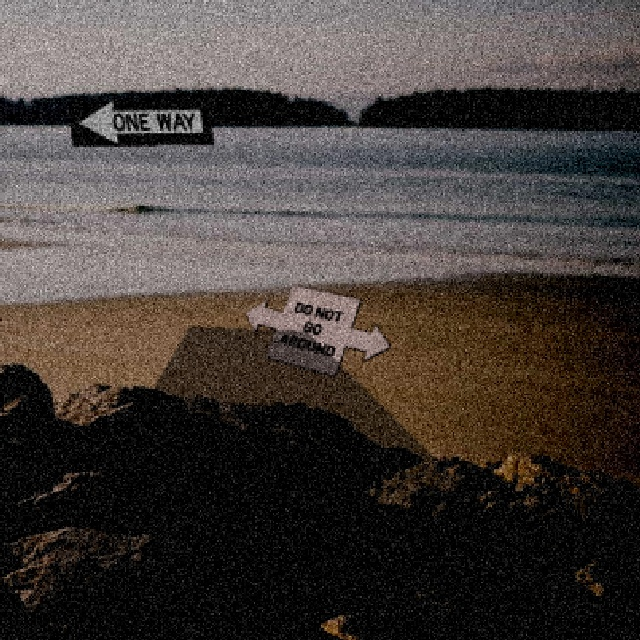DO_NOT_GO_AROUND: (243, 283, 390, 376)
ONE_WAY_ left: (66, 97, 213, 145)
